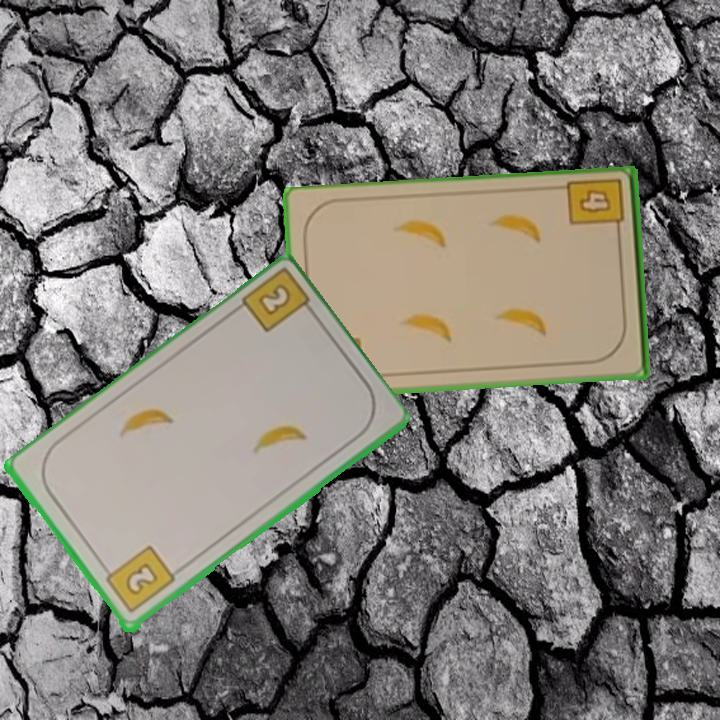2b: (98, 543, 178, 617), (236, 268, 318, 336)
4b: (564, 175, 628, 241)
